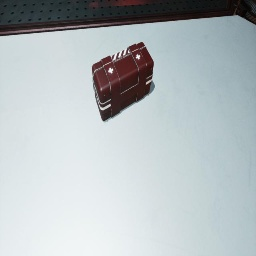FirstAidBox ,: (92, 42, 154, 121)
